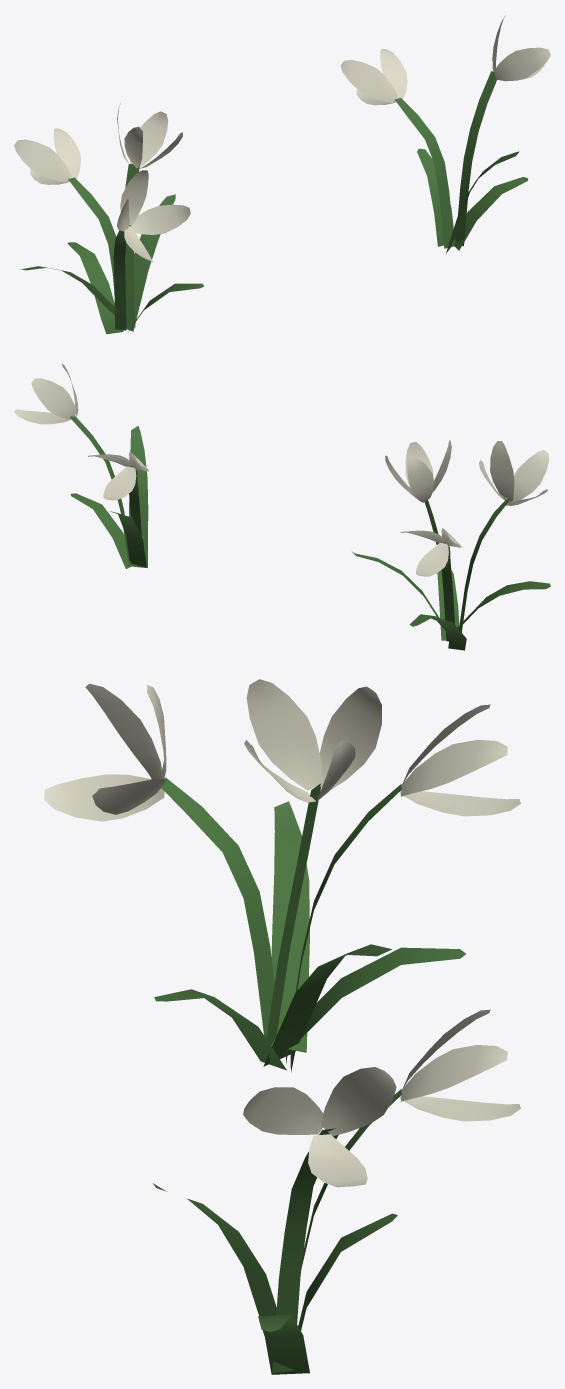
The model's file is Snowdrop.fbx.
3 renders of one model, top to bottom at view 1: azimuth 30°, elevation 25°; view 2: azimuth 150°, elevation 25°; view 3: azimuth 270°, elevation 25°, orthographic. The views are drawn at different scales.
Parts seen in each view (by area): view 1: Snowdrop 2, Snowdrop 1; view 2: Snowdrop 2, Snowdrop 1; view 3: Snowdrop 2, Snowdrop 1.
Boxes of the visible parts, x1,y1,x2,y2 form: Snowdrop 2: (14, 103, 204, 334); Snowdrop 1: (340, 15, 550, 253); Snowdrop 2: (352, 440, 550, 650); Snowdrop 1: (14, 363, 148, 568); Snowdrop 2: (44, 679, 520, 1072); Snowdrop 1: (153, 1009, 520, 1374).
Bounding box in the file's own units: 167 × 61.67 × 66.13.
